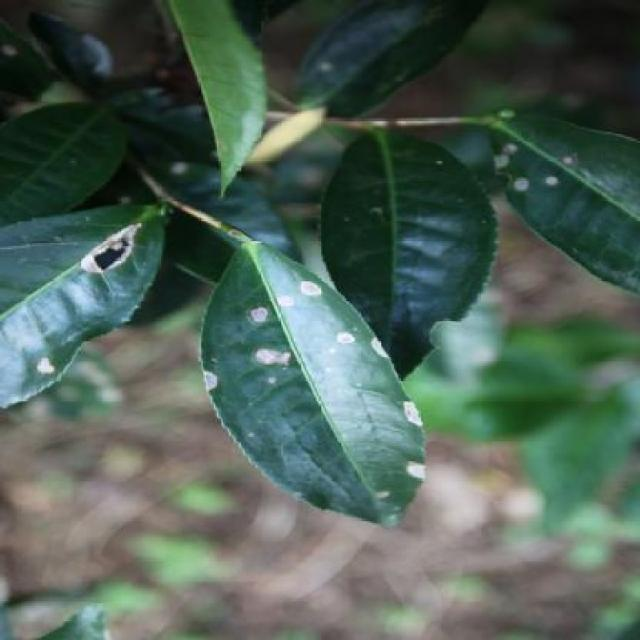Leaf rust of tea: (195, 234, 440, 540)
